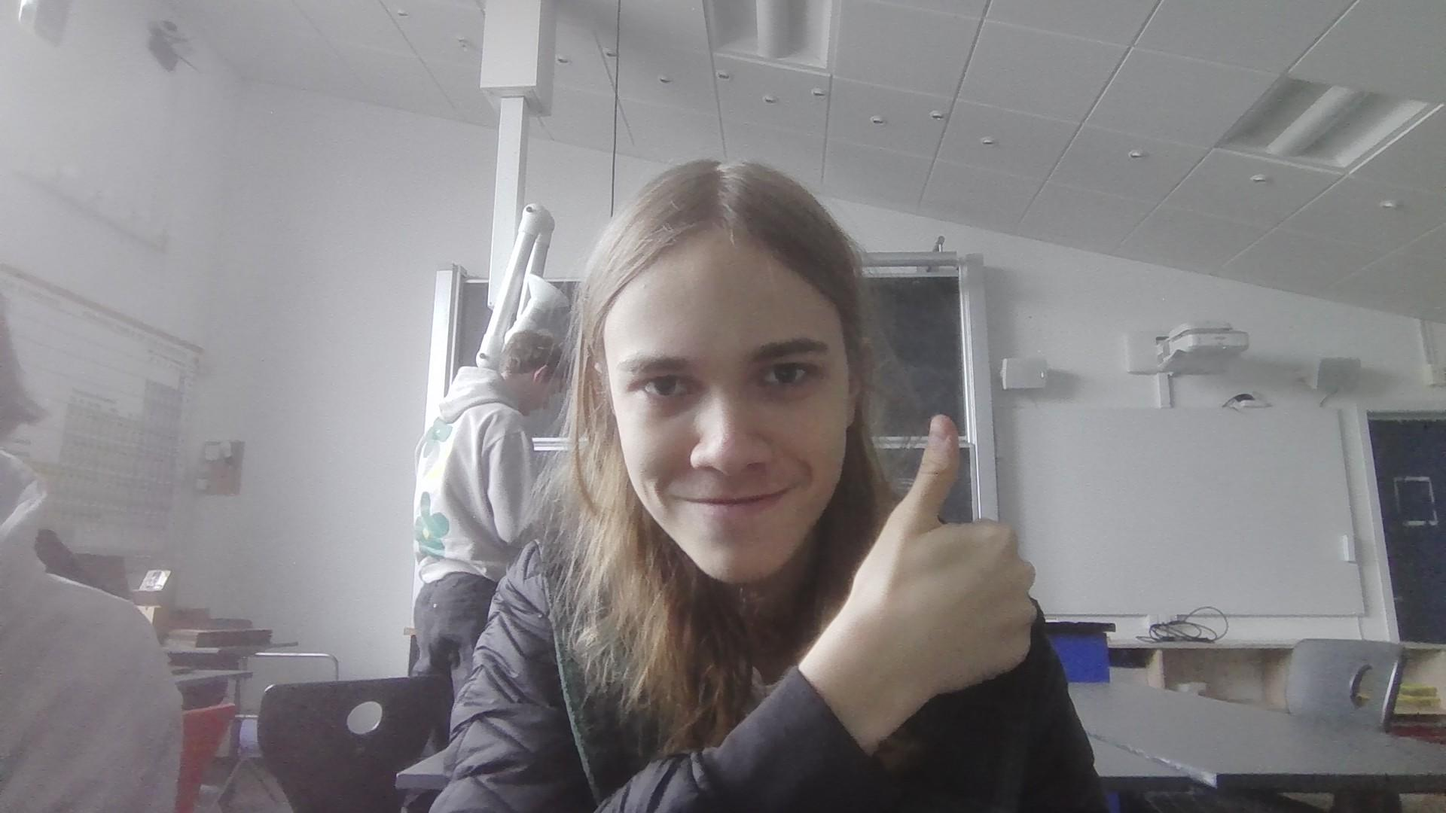thumbs up: (815, 400, 1047, 766)
